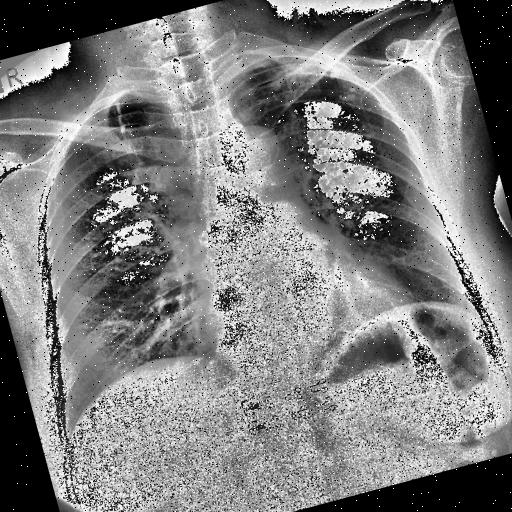0- Aortic enlargement: (215, 118, 301, 209), (220, 118, 294, 199), (220, 116, 291, 194)
11- Pleural thickening: (240, 26, 356, 106), (222, 48, 284, 80)
13- Pulmonary fibrosis: (264, 46, 344, 106), (266, 54, 328, 122), (107, 96, 144, 168), (108, 96, 129, 140), (111, 98, 130, 136), (356, 120, 379, 143), (334, 83, 358, 104), (326, 68, 338, 80)
2- Calcification: (326, 60, 382, 148), (352, 118, 378, 142), (338, 86, 360, 112)
8- Nodule-Mass: (356, 120, 379, 143), (334, 83, 358, 104), (326, 68, 338, 80)
